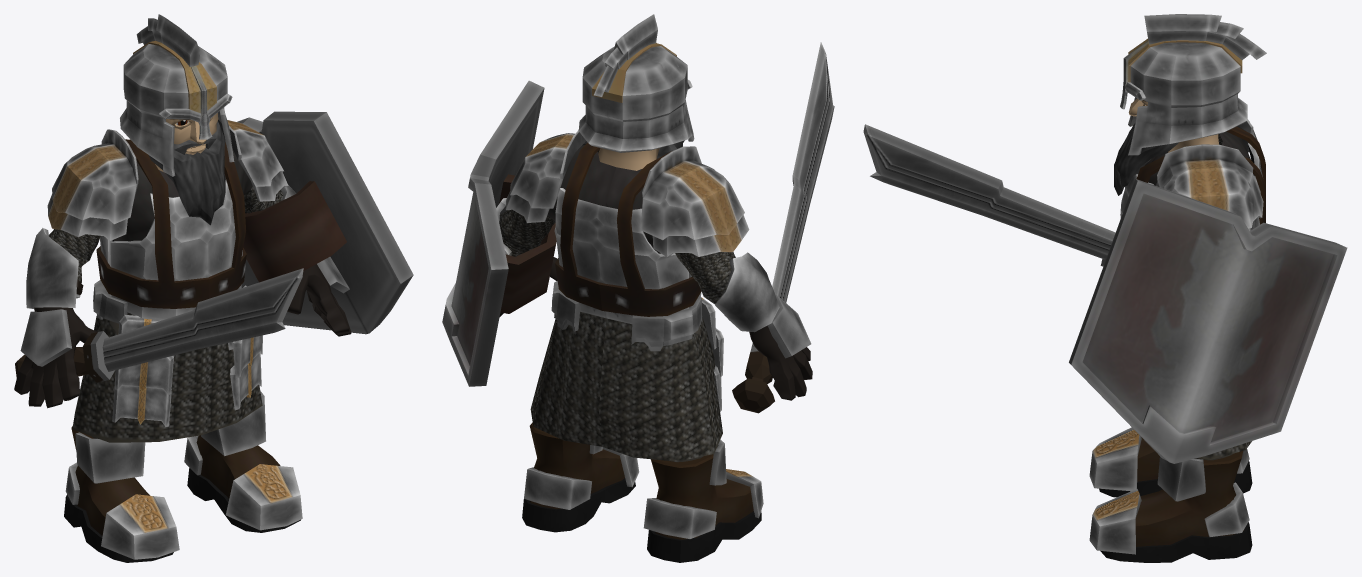
File: IronHillsDwarfSmollobj.obj
3 views of the same model, side by side, from view 1: azimuth 30°, elevation 25°; view 2: azimuth 150°, elevation 25°; view 3: azimuth 270°, elevation 25° (orthographic). The views are drawn at different scales.
Visible parts, largest first — view 1: IronHillsDwarf; view 2: IronHillsDwarf; view 3: IronHillsDwarf.
Boxes of the visible parts, <box> form: IronHillsDwarf: <box>14,14,413,562</box>; IronHillsDwarf: <box>442,14,834,562</box>; IronHillsDwarf: <box>863,14,1347,562</box>.
Bounding box in the file's own units: 1.65 × 2.16 × 1.89.
1 material, 1 textured.
